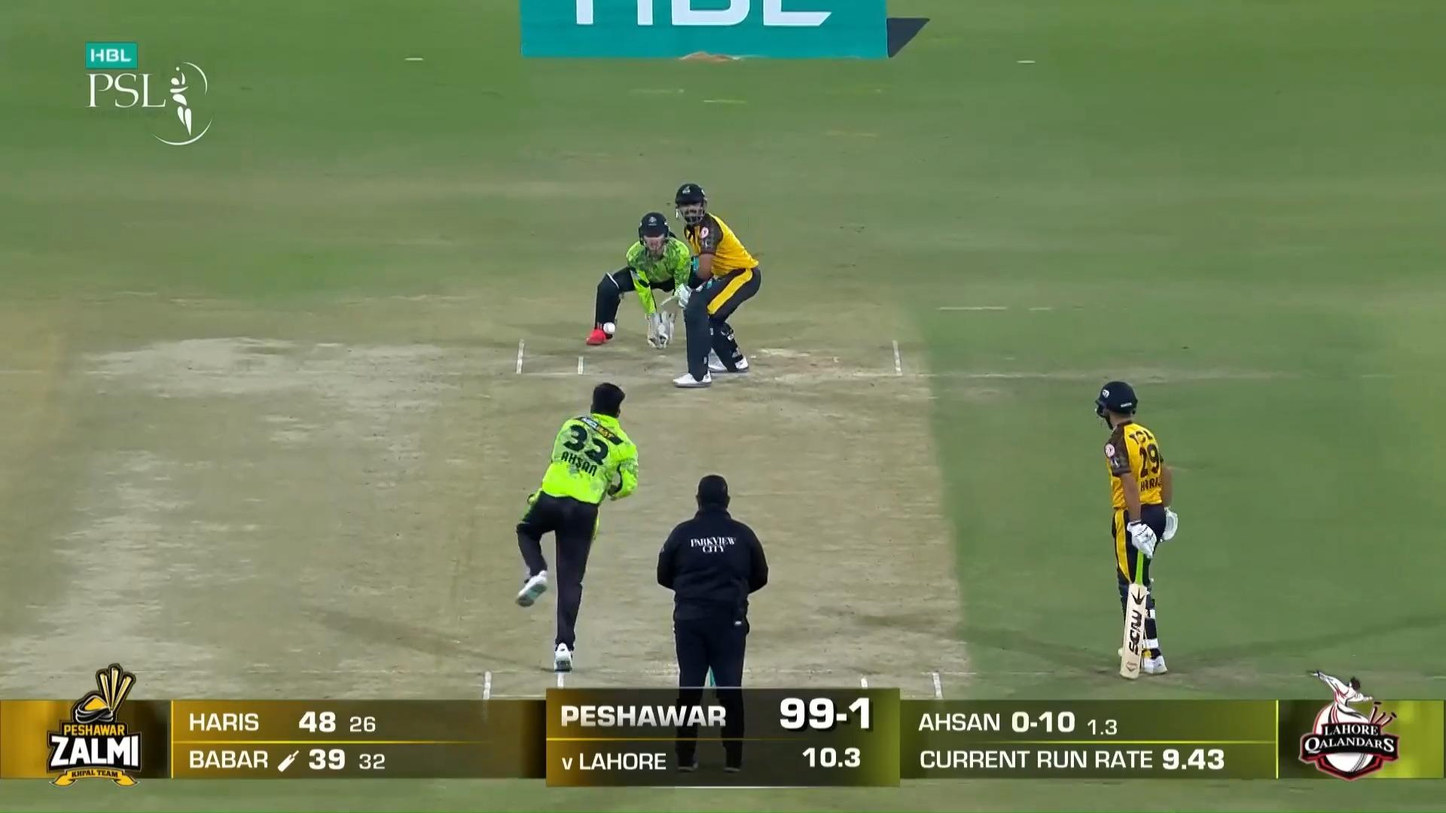batsman: (660, 182, 761, 387)
